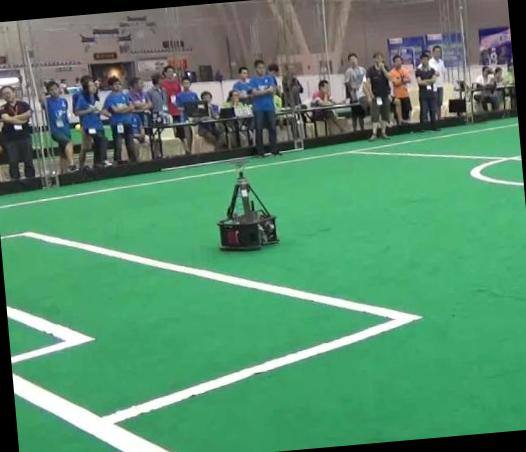person: (249, 61, 278, 154), (363, 52, 390, 141)
robot: (217, 162, 279, 249)
